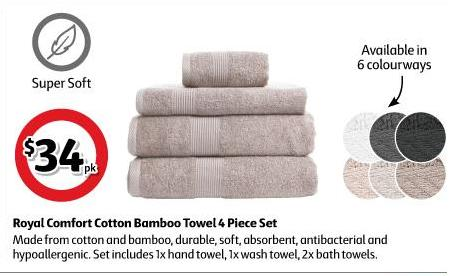description_block: (3, 210, 291, 233)
price_main: (7, 112, 114, 198)
product_image_block: (119, 41, 448, 208)
